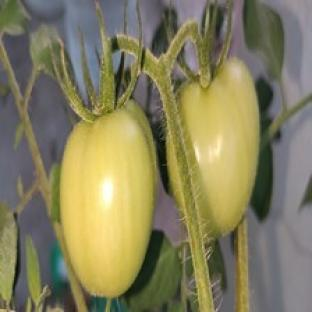Tomato: (60, 101, 157, 298), (179, 59, 259, 238)
